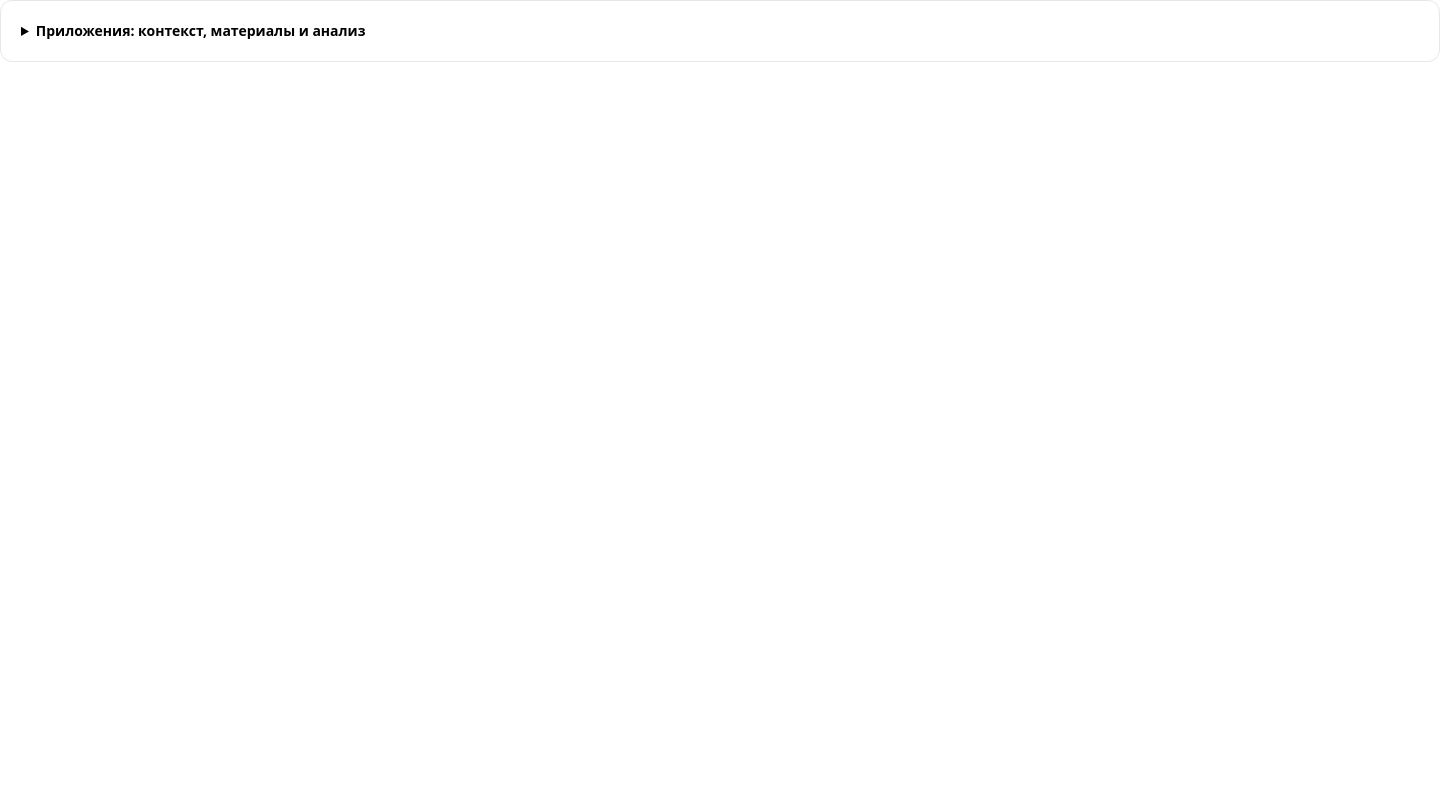
baseline identifiers are displayed without linking to unrelated current records
The width and height of the screenshot is (1440, 810).
What coordinates should you click on to do the following:
click the heading "Приложения: контекст, материалы и анализ"
I would click on:
 (201, 30)
Its box is x1=36 y1=21 x2=365 y2=40.
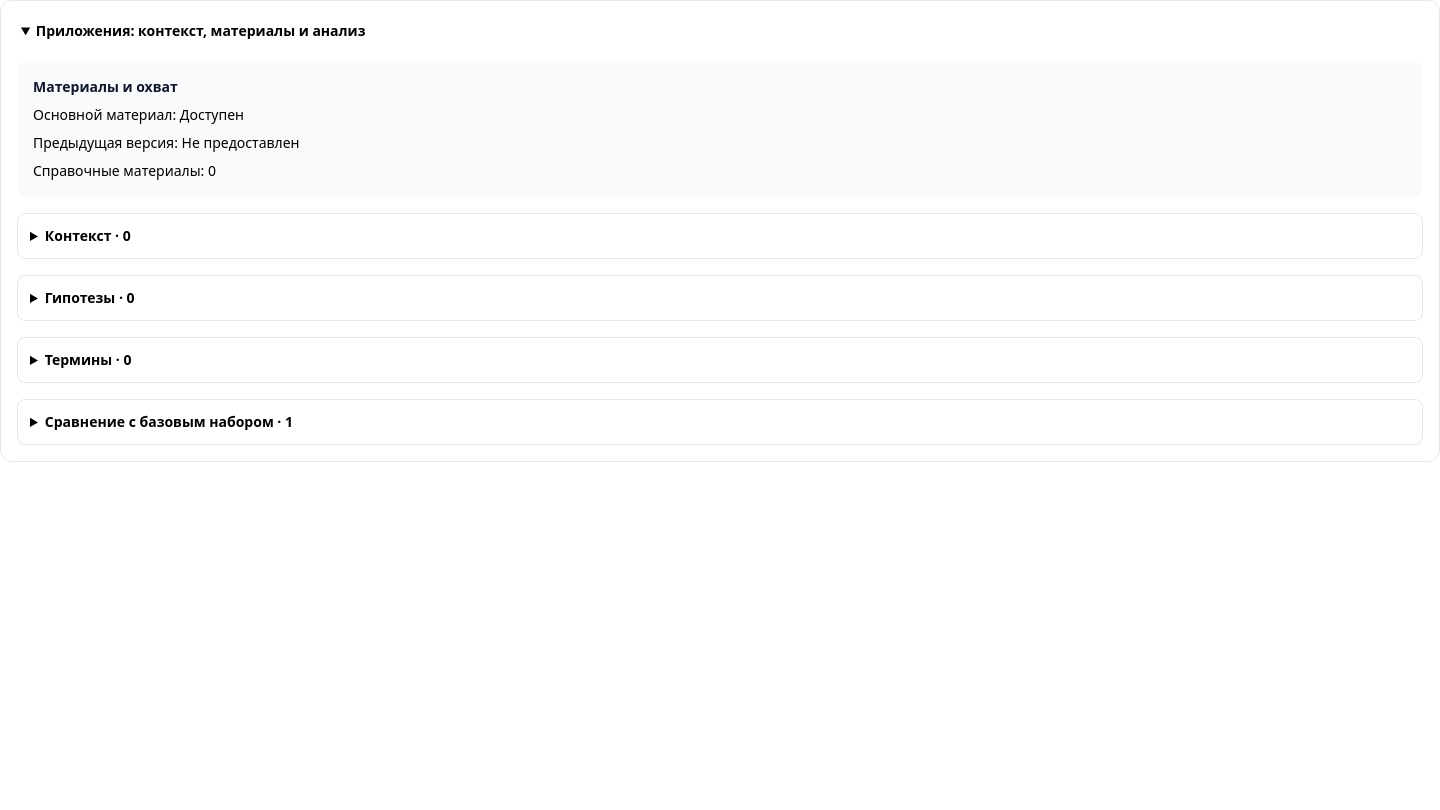
What coordinates should you click on to do the following:
click the heading "Сравнение с базовым набором · 1"
I would click on:
 (169, 422)
Its box is x1=45 y1=412 x2=293 y2=431.
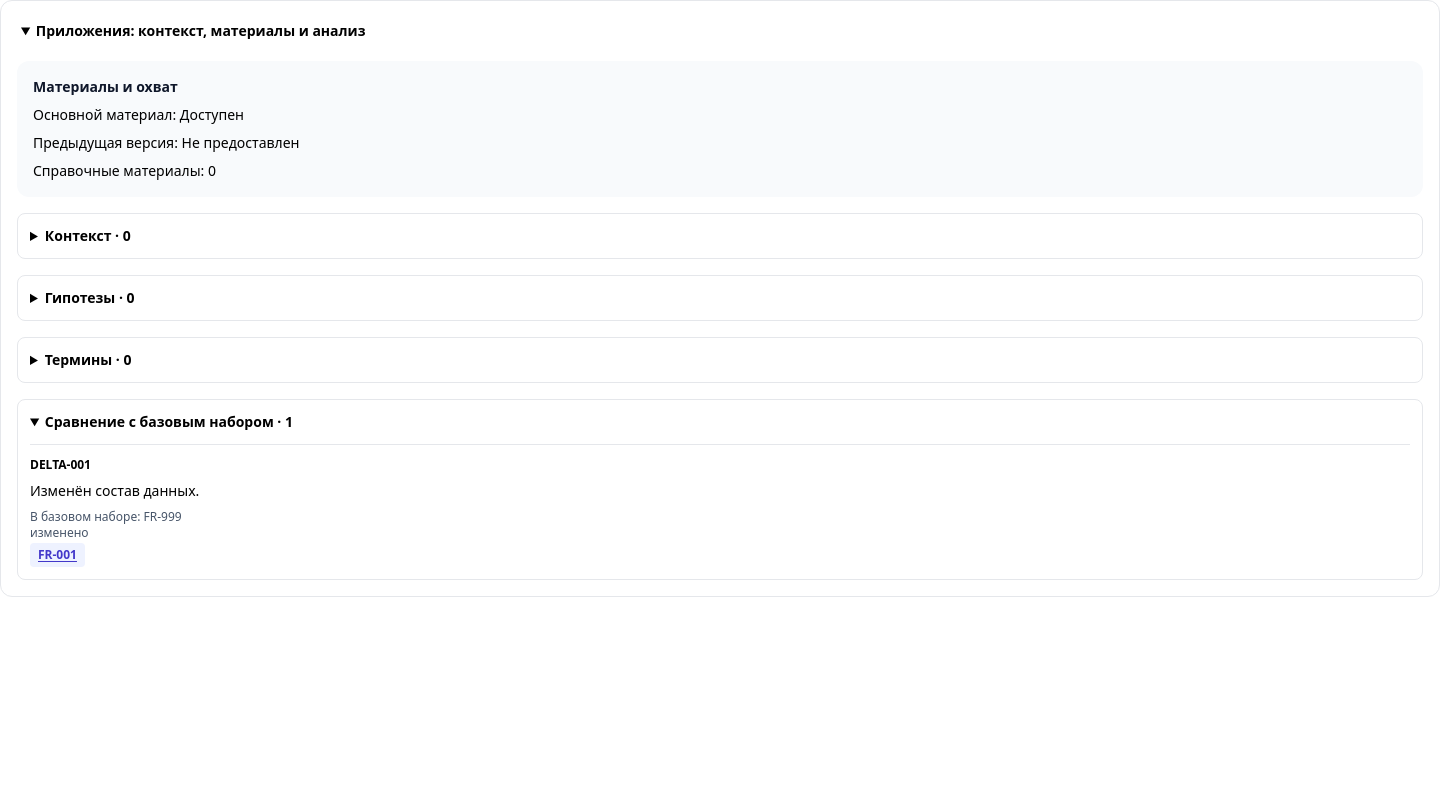
expect the text "В базовом наборе: FR-999" is shown: met, box x1=30 y1=508 x2=182 y2=525
